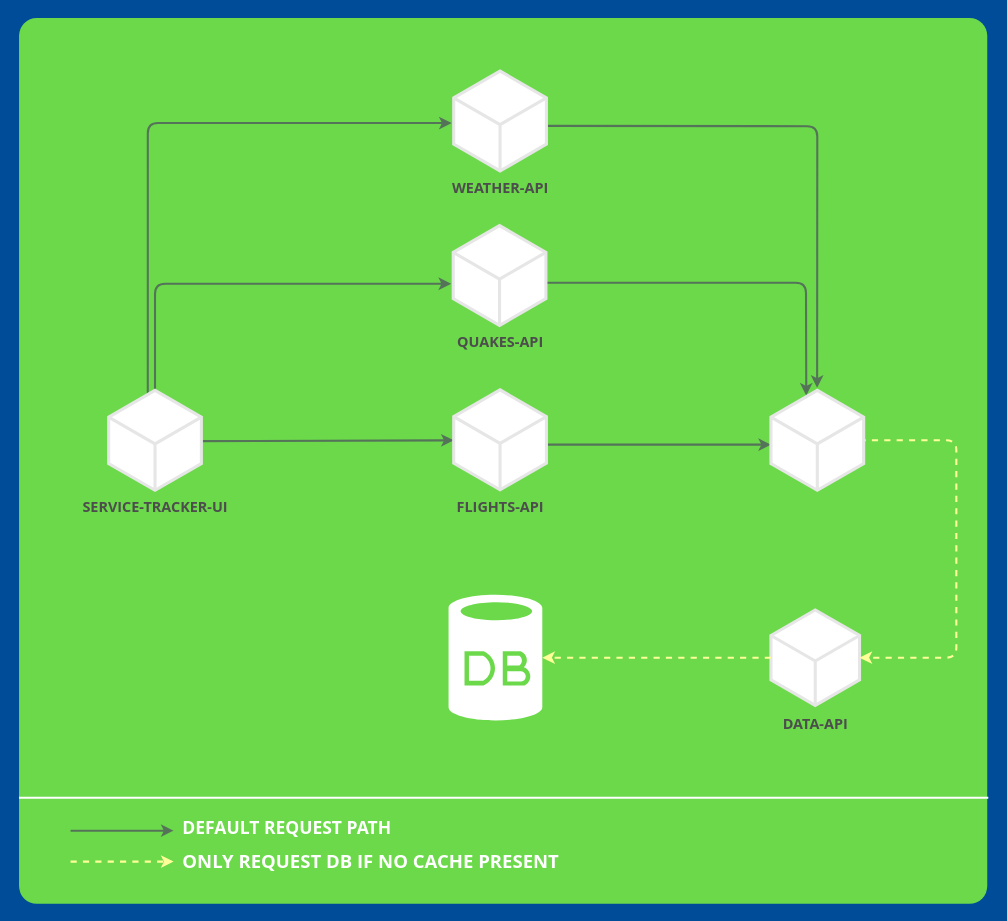
Image size: 1007x921. Some labels were removed from this diagram. Here are the shapes that lost their labels. From the top down, the centre of each, then its label:
point 817,440: CACHE-API
point 495,657: MONGODB API COSMOSDB
